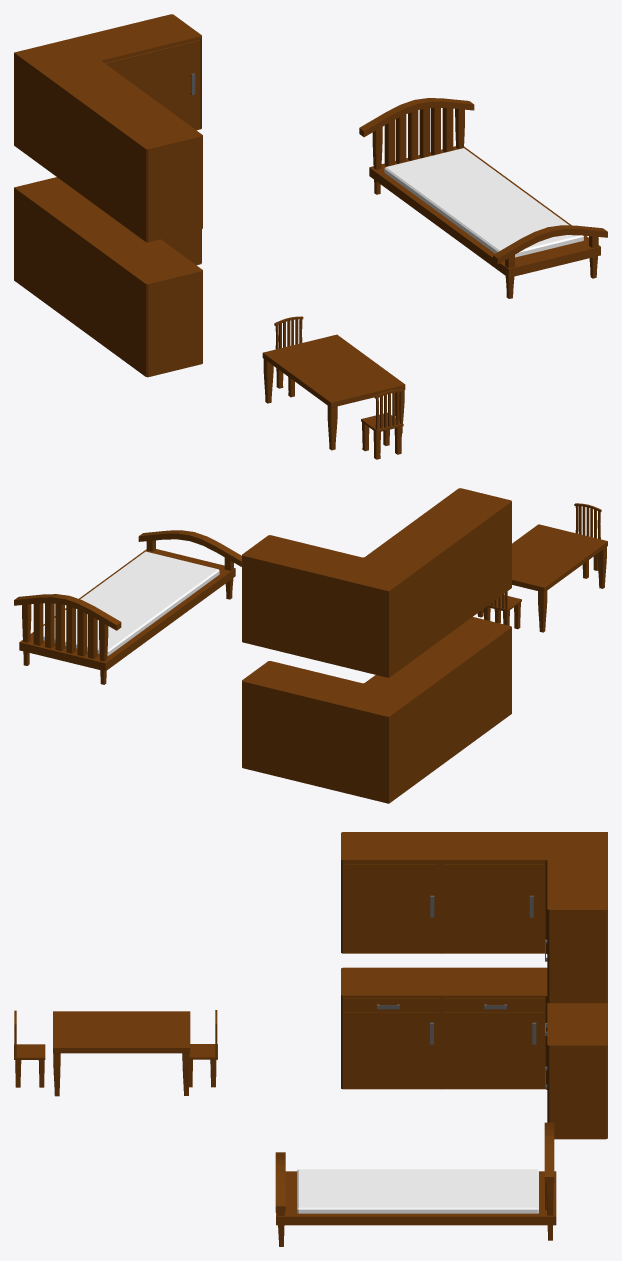
The model's file is inside house.fbx.
The picture shows the model from 3 angles, top to bottom: view 1: azimuth 30°, elevation 25°; view 2: azimuth 150°, elevation 25°; view 3: azimuth 270°, elevation 25°; orthographic projection. The views are drawn at different scales.
Parts seen in each view (by area): view 1: Cube.054, Cube.047, Cube.001, Cube.002, Cube.040, Cube.039; view 2: Cube.054, Cube.047, Cube.001, Cube.002, Cube.040, Cube.039, Cube.042, Cube.043, Cube.044, Cube.046, Cube.037, Cube.038 (+1 smaller); view 3: Cube.054, Cube.047, Cube.001, Cube.002, Cube.039, Cube.040.
Part boxes in pixels (<box>): Cube.054: <box>14,14,202,377</box>; Cube.047: <box>384,148,583,257</box>; Cube.001: <box>262,334,405,407</box>; Cube.002: <box>369,146,600,277</box>; Cube.040: <box>359,98,474,137</box>; Cube.039: <box>493,225,607,264</box>; Cube.054: <box>242,488,511,803</box>; Cube.047: <box>43,551,219,655</box>; Cube.001: <box>512,524,607,592</box>; Cube.002: <box>19,549,235,671</box>; Cube.040: <box>14,594,121,630</box>; Cube.039: <box>138,530,241,566</box>; Cube.042: <box>77,609,87,656</box>; Cube.043: <box>66,605,75,653</box>; Cube.044: <box>55,603,64,650</box>; Cube.046: <box>33,603,43,645</box>; Cube.037: <box>22,604,31,665</box>; Cube.038: <box>99,621,108,684</box>; Cube.054: <box>341,832,607,1139</box>; Cube.047: <box>297,1169,538,1213</box>; Cube.001: <box>53,1011,190,1053</box>; Cube.002: <box>276,1171,556,1225</box>; Cube.039: <box>275,1152,285,1212</box>; Cube.040: <box>544,1122,554,1182</box>.
Bounding box in the file's own units: 355 × 180 × 424.
